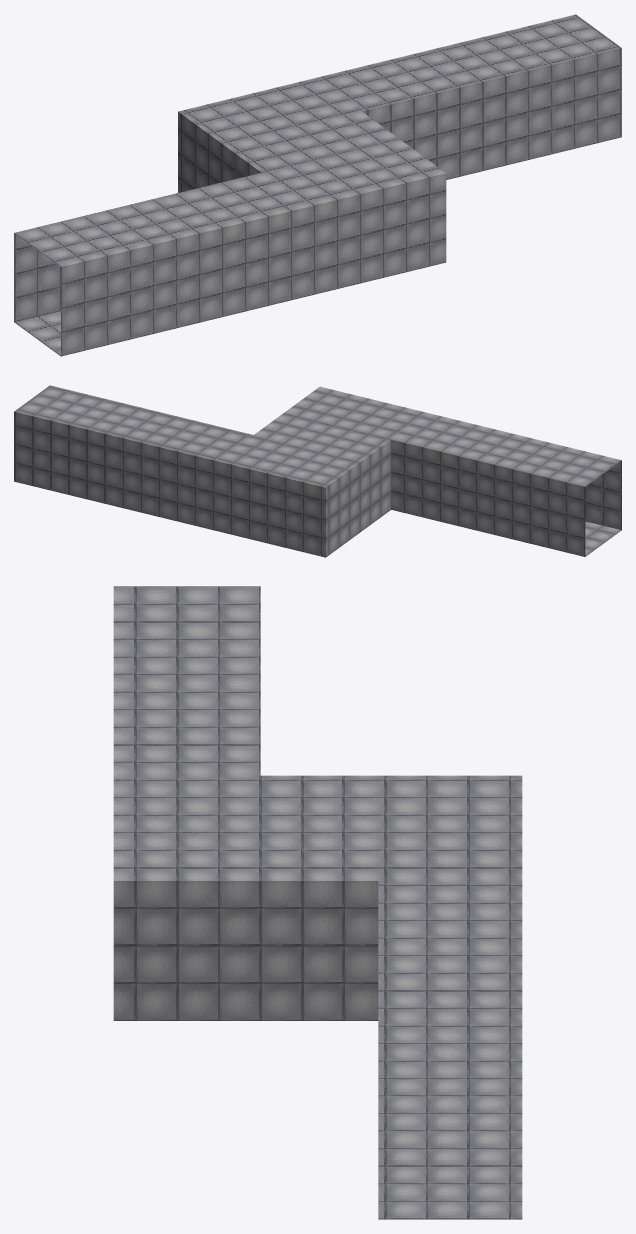
File: HALLWAY.obj
3 renders of one model, top to bottom at view 1: azimuth 30°, elevation 25°; view 2: azimuth 150°, elevation 25°; view 3: azimuth 270°, elevation 25°, orthographic. The views are drawn at different scales.
Parts seen in each view (by area): view 1: HALLWAY; view 2: HALLWAY; view 3: HALLWAY.
Boxes of the visible parts, x1,y1,x2,y2 form: HALLWAY: (14, 14, 621, 356); HALLWAY: (14, 385, 621, 557); HALLWAY: (113, 586, 522, 1219).
Size of the model in its own units: 28.09 by 3.71 by 9.83.
1 material, 1 textured.
